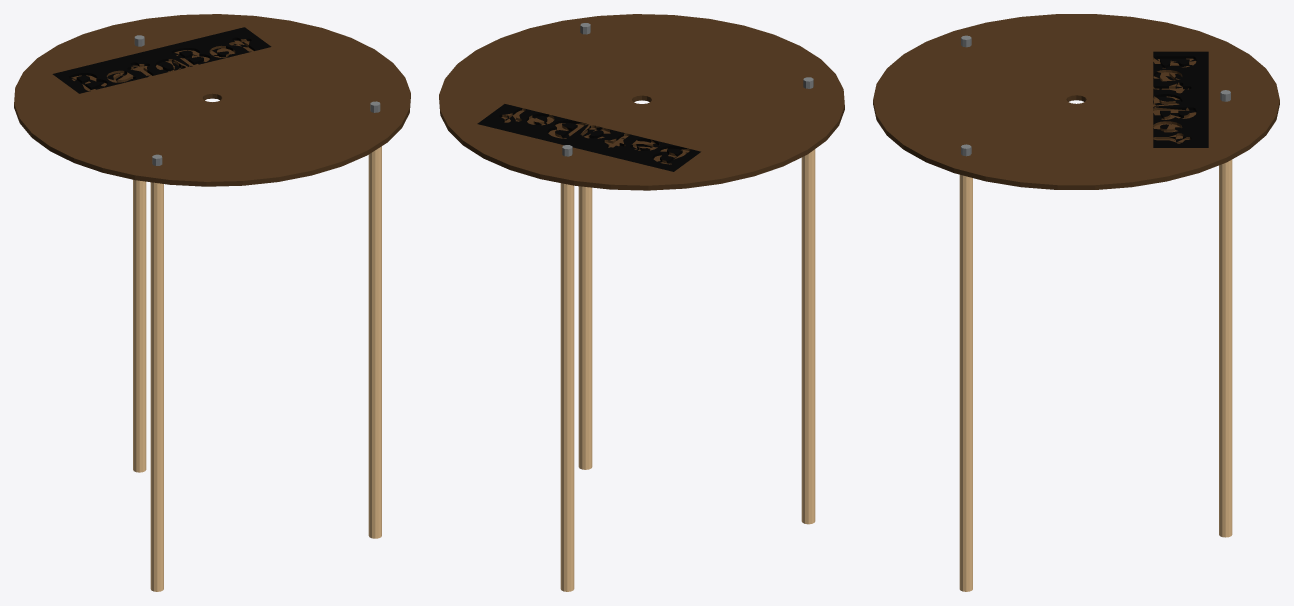
Rendered from betabot_extension.dae.
The picture shows the model from 3 angles, left to right: view 1: azimuth 30°, elevation 25°; view 2: azimuth 150°, elevation 25°; view 3: azimuth 270°, elevation 25°; orthographic projection. The views are drawn at different scales.
Parts seen in each view (by area): view 1: Base Exetsion; view 2: Base Exetsion; view 3: Base Exetsion.
Boxes of the visible parts, x1=… form: Base Exetsion: x1=14, y1=14, x2=410, y2=591; Base Exetsion: x1=439, y1=14, x2=844, y2=591; Base Exetsion: x1=873, y1=14, x2=1279, y2=591.
Bounding box in the file's own units: 0.2987 × 0.3 × 0.36.
